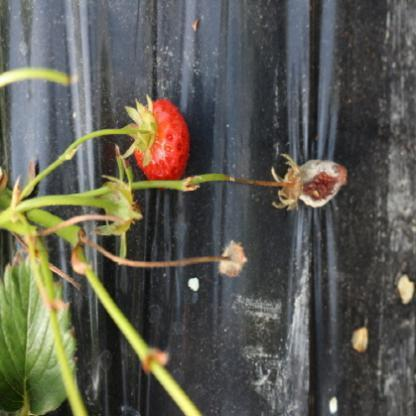Strawberry_Gray_Mold: (270, 154, 350, 212)
